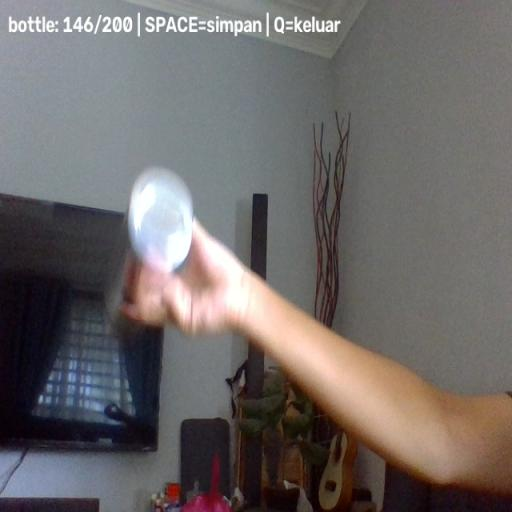Bottle: (104, 166, 195, 330)
